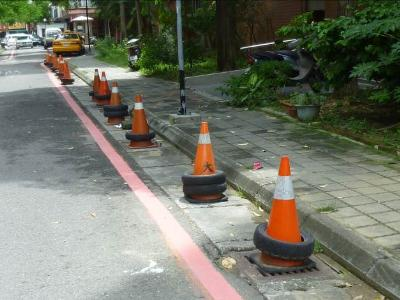tire: (254, 221, 315, 261), (182, 170, 227, 184), (182, 182, 227, 196), (125, 130, 156, 142), (102, 104, 130, 111), (102, 110, 130, 117)
